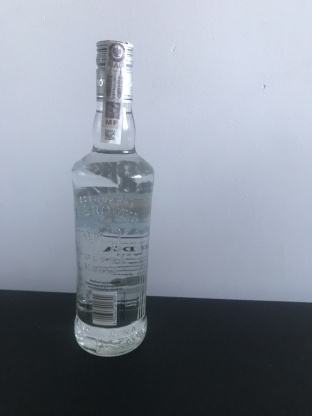nakretka: (93, 35, 136, 105)
